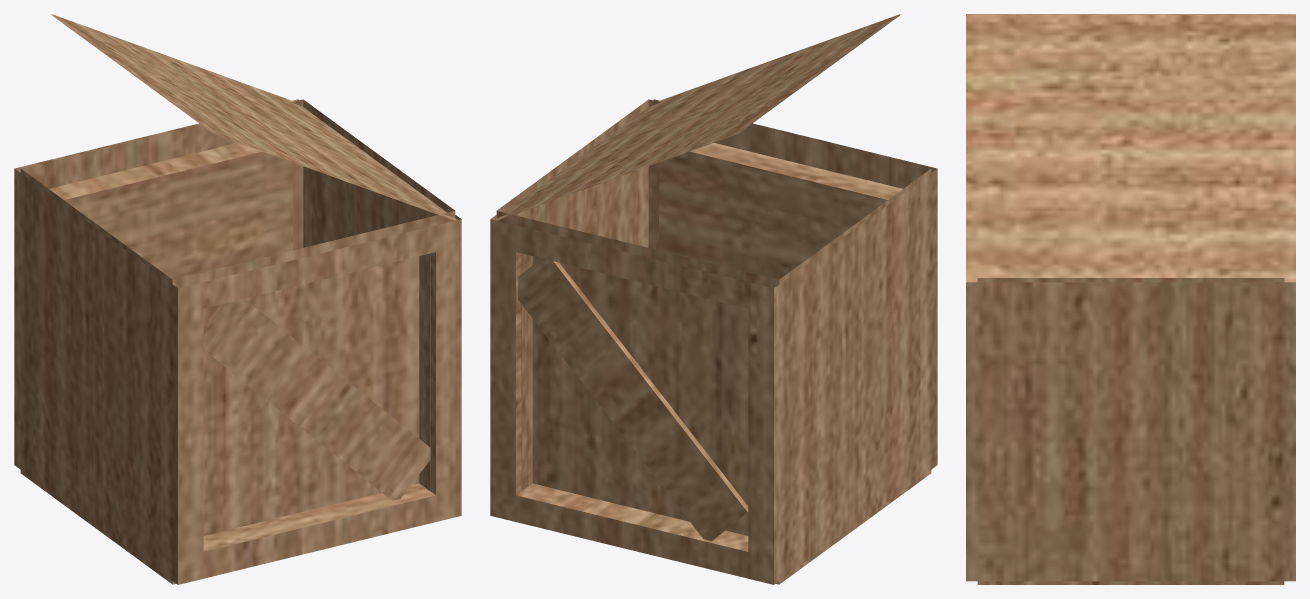
3 views of the same model, side by side, from view 1: azimuth 30°, elevation 25°; view 2: azimuth 150°, elevation 25°; view 3: azimuth 270°, elevation 25° (orthographic).
Parts seen in each view (by area): view 1: Box001; view 2: Box001; view 3: Box001.
Part boxes in pixels (bbox=[...]): Box001: bbox=[14, 14, 461, 584]; Box001: bbox=[490, 14, 937, 584]; Box001: bbox=[966, 14, 1295, 584].
Size of the model in its own units: 50 by 75.2 by 50.
Materials: 1 (1 with a texture image).
